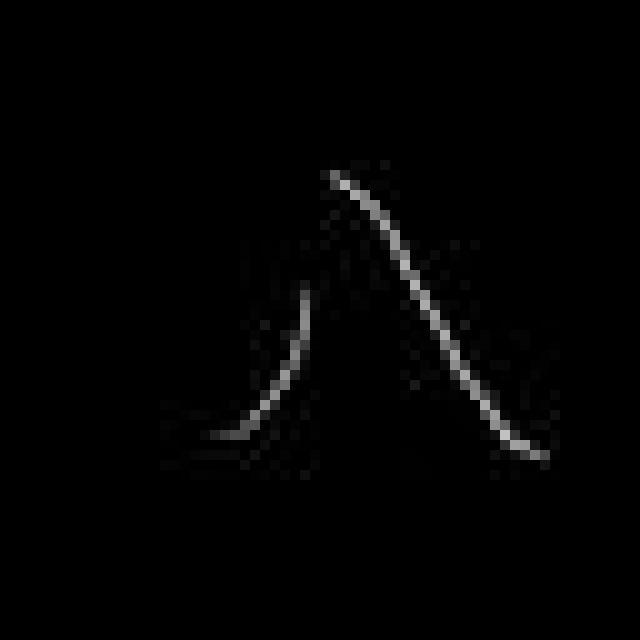8 -eight-: (212, 166, 555, 482)
